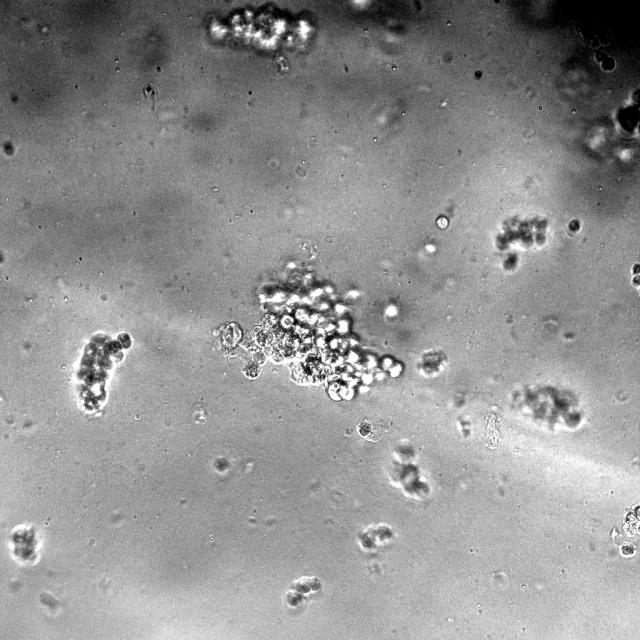organoid: (217, 262, 403, 401), (206, 3, 316, 75), (207, 3, 316, 53), (76, 332, 130, 414), (512, 385, 582, 431), (495, 215, 548, 270), (388, 443, 431, 501), (611, 502, 639, 557), (8, 523, 42, 565), (284, 575, 321, 609), (358, 522, 395, 554), (574, 21, 612, 48), (416, 349, 448, 378), (356, 418, 384, 441), (594, 50, 616, 72), (210, 456, 231, 476), (567, 218, 581, 236), (435, 214, 449, 229), (631, 262, 639, 287)
